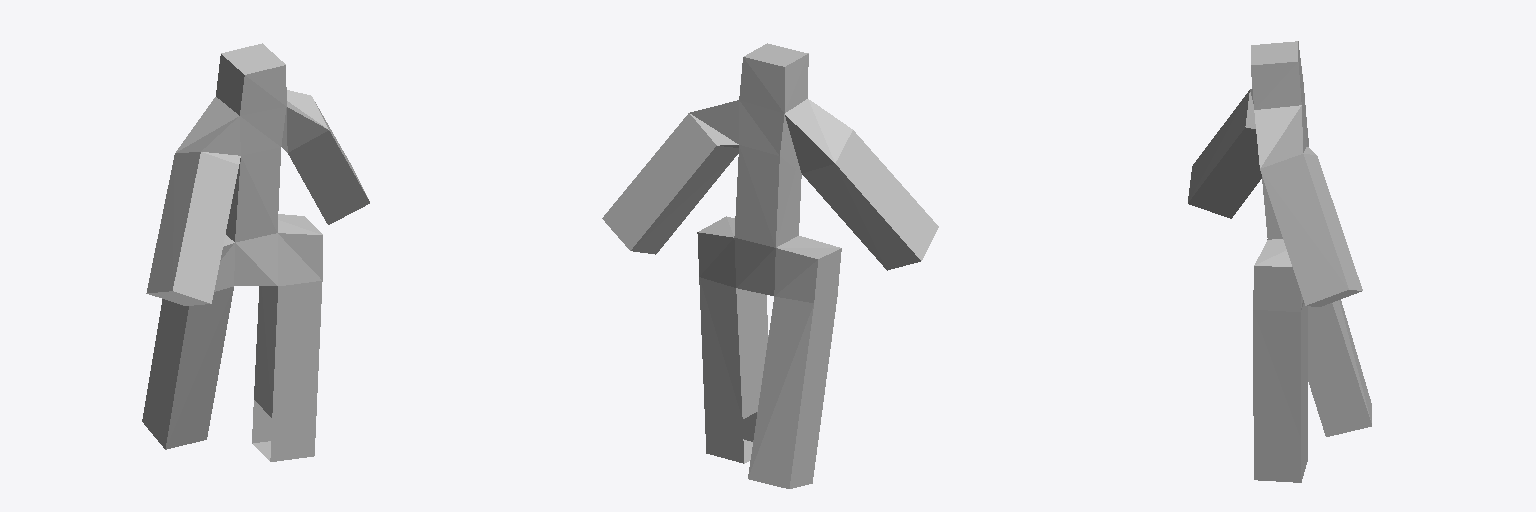
File: cuboid_000022.obj
The picture shows the model from 3 angles: view 1: azimuth 30°, elevation 25°; view 2: azimuth 150°, elevation 25°; view 3: azimuth 270°, elevation 25°; orthographic projection.
Visible parts, largest first — view 1: Cube; view 2: Cube; view 3: Cube.
Boxes of the visible parts, x1,y1,x2,y2 form: Cube: [142, 43, 369, 461]; Cube: [602, 43, 938, 488]; Cube: [1188, 41, 1371, 482].
Bounding box in the file's own units: 3.16 × 4.64 × 1.92.